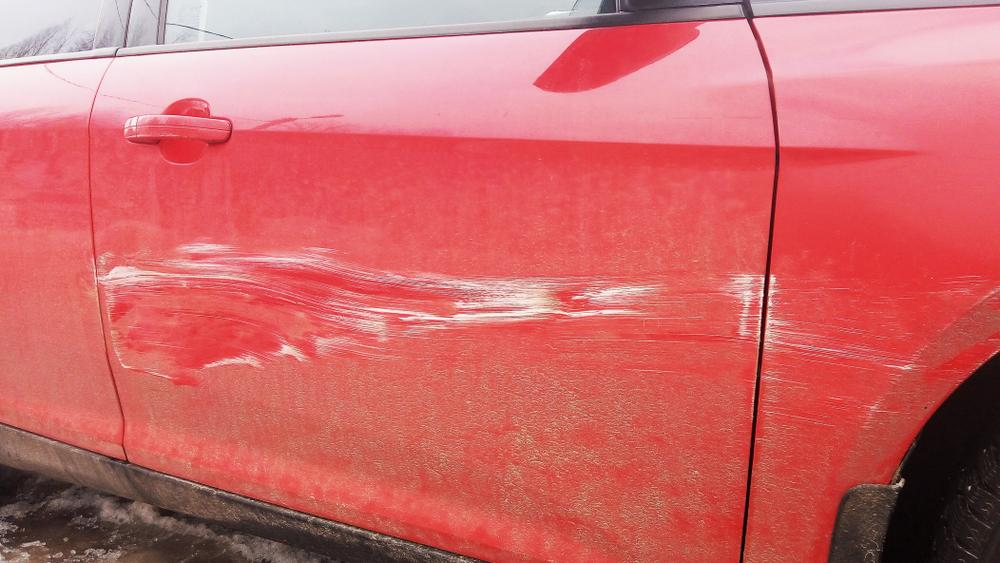scratch: (94, 232, 768, 382), (753, 268, 1000, 468)
